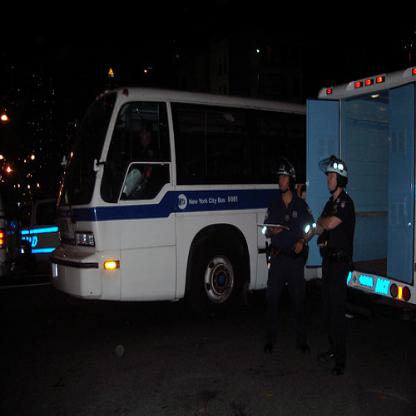bus: (52, 88, 307, 309)
person: (265, 163, 314, 359), (317, 158, 357, 375)
